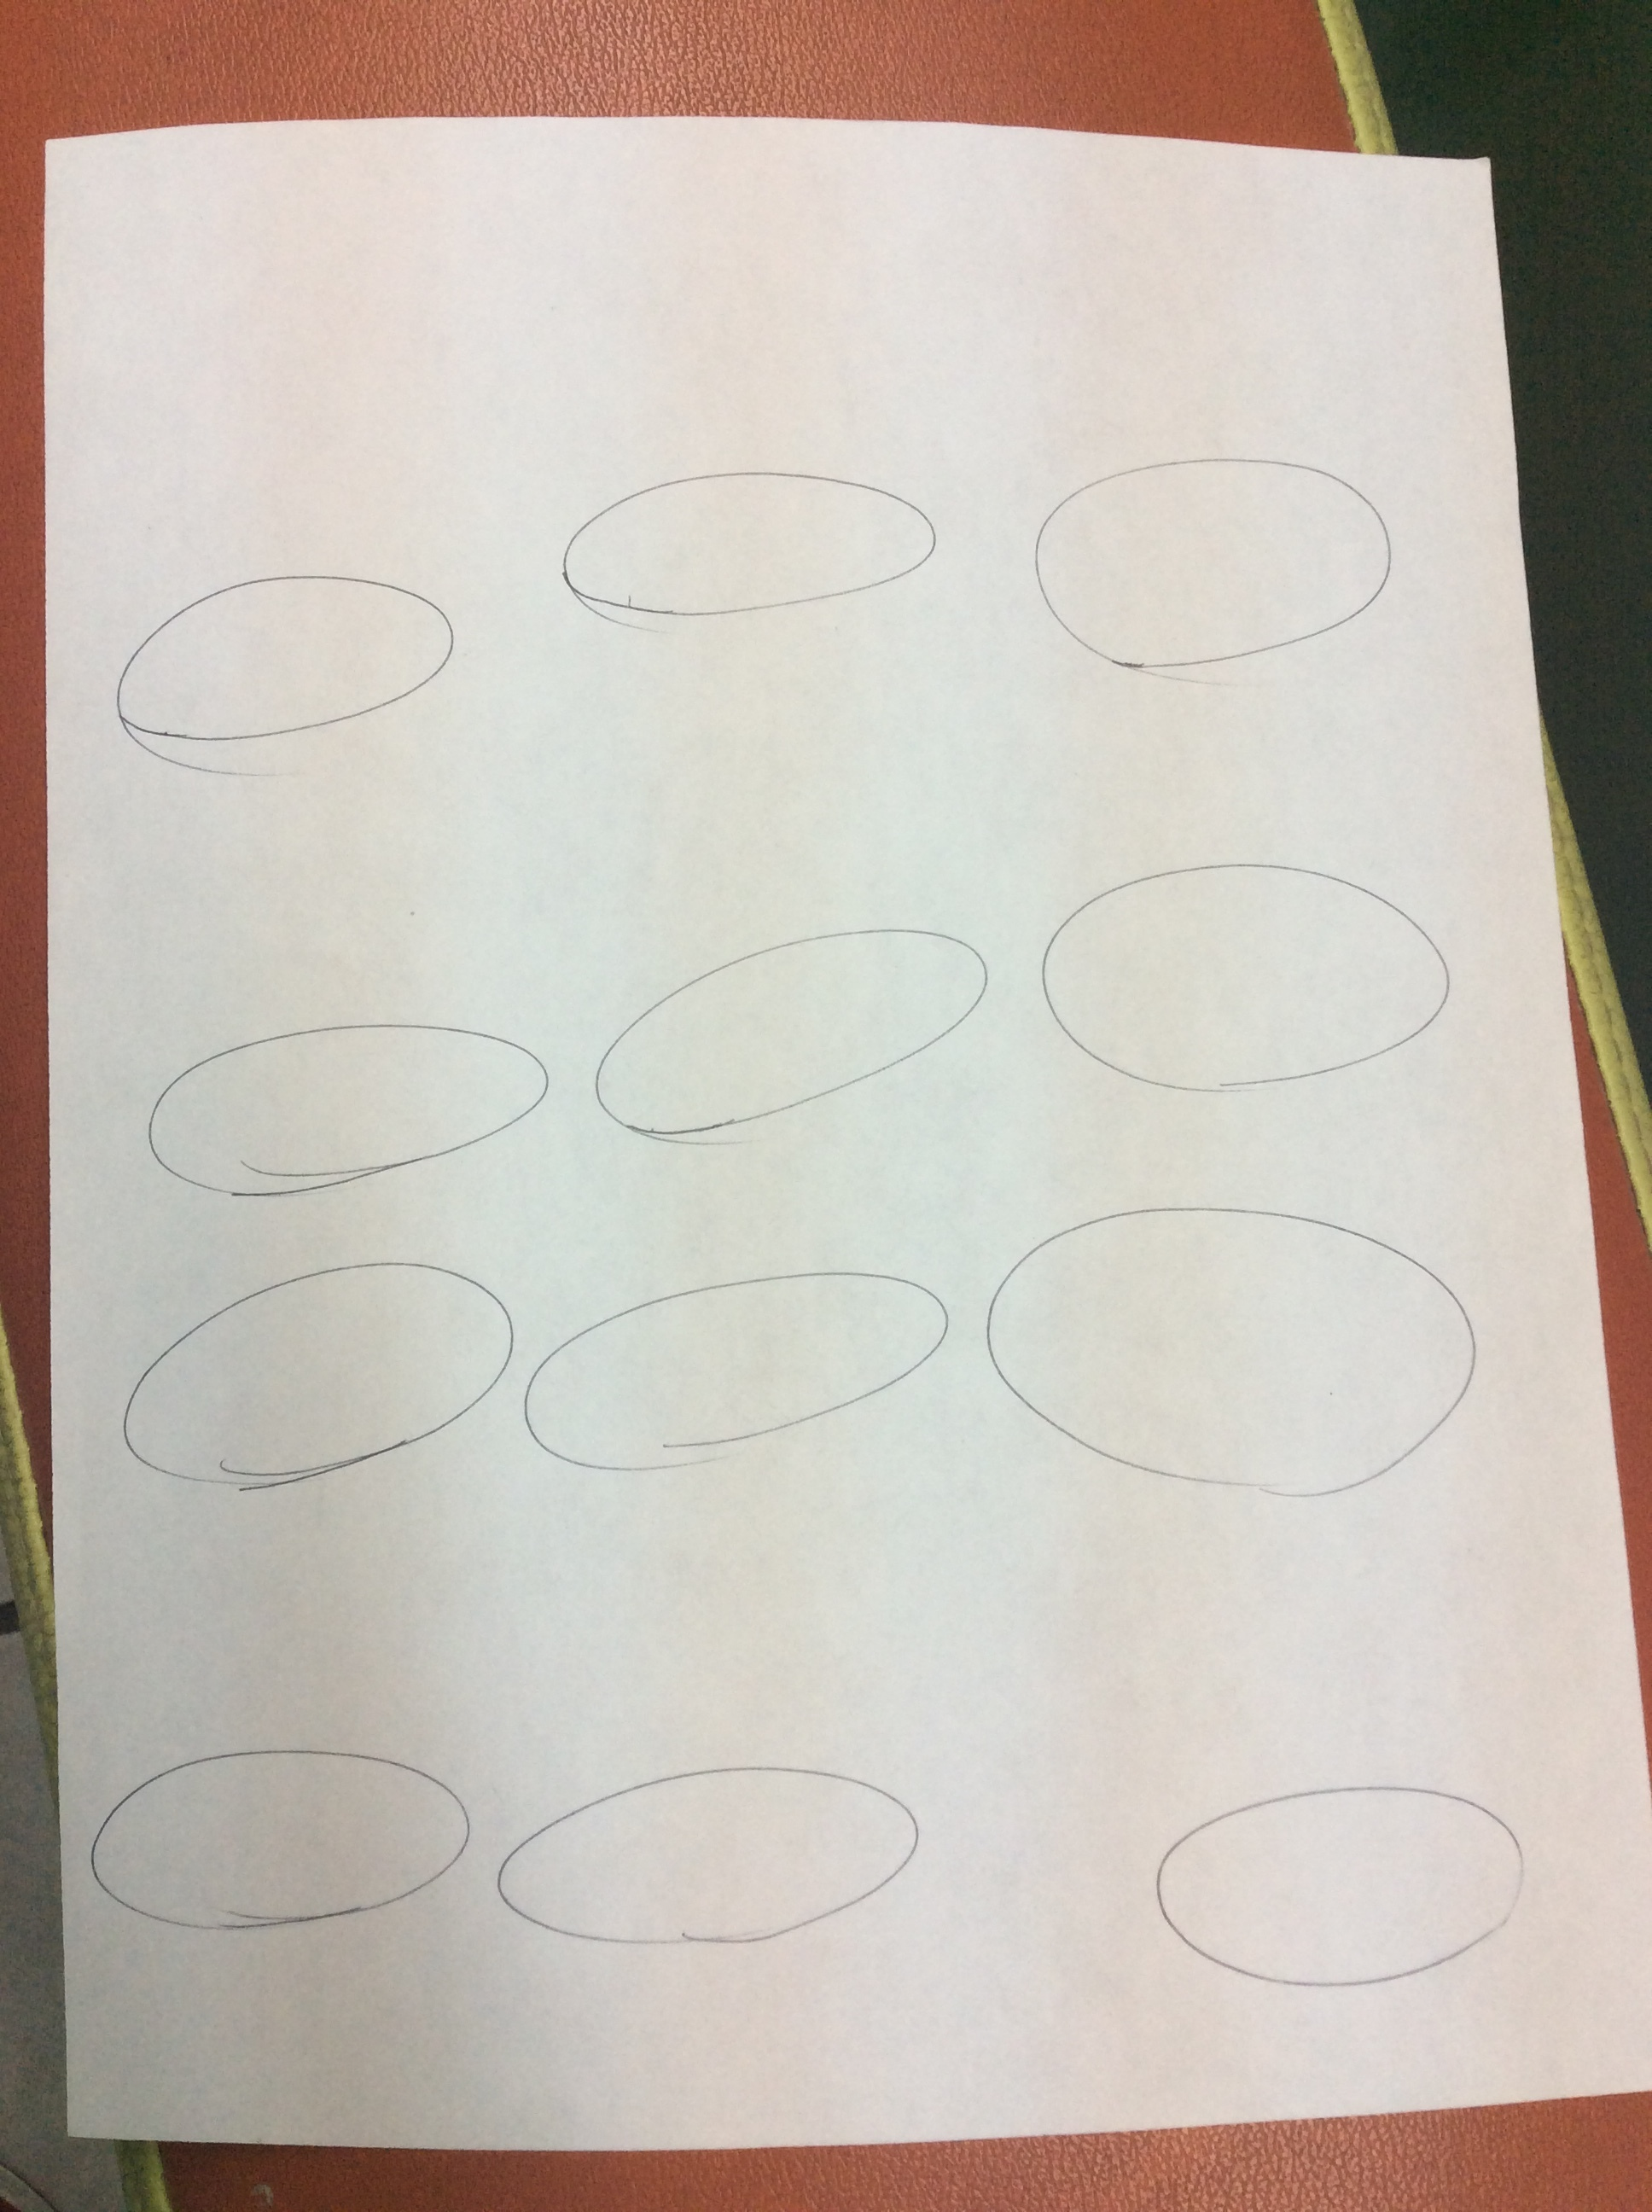start_end: (965, 1195, 1503, 1513), (1032, 822, 1473, 1109), (521, 1235, 954, 1509), (578, 892, 1005, 1164), (1118, 1751, 1555, 2014), (475, 1728, 954, 1962), (94, 1256, 517, 1509), (1012, 437, 1407, 689), (534, 434, 968, 656), (80, 1724, 475, 1959), (132, 1013, 559, 1211), (108, 560, 472, 791)
